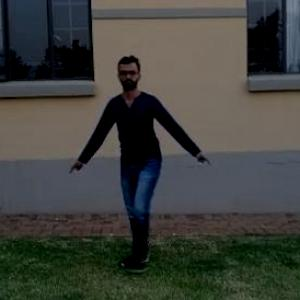land: (70, 64, 204, 248)
